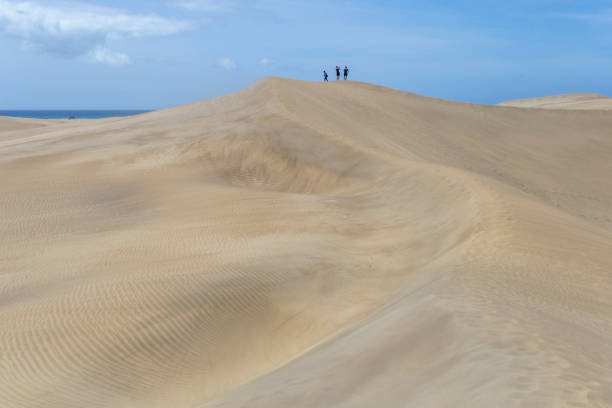human_foot_print: (473, 282, 584, 408)
